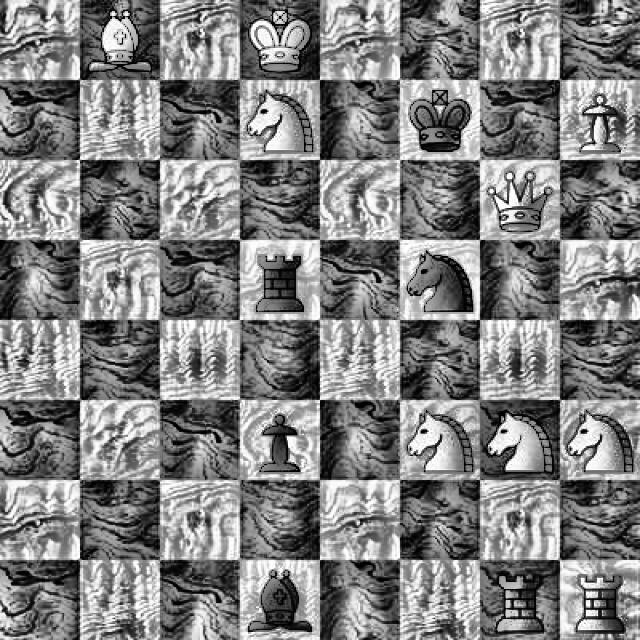Black Knight: (408, 244, 478, 318)
black bishop: (243, 557, 316, 640)
black king: (405, 75, 478, 158)
black pawn: (251, 404, 310, 474)
black rook: (236, 241, 319, 316), (485, 566, 550, 640)
white bishop: (86, 1, 153, 82)
white king: (245, 3, 315, 77)
white pawn: (568, 76, 632, 156)
white queen: (486, 165, 555, 237)
white rook: (567, 557, 639, 640)
whiteknight: (562, 398, 638, 476), (481, 403, 556, 472), (406, 403, 472, 478), (247, 88, 313, 160)
